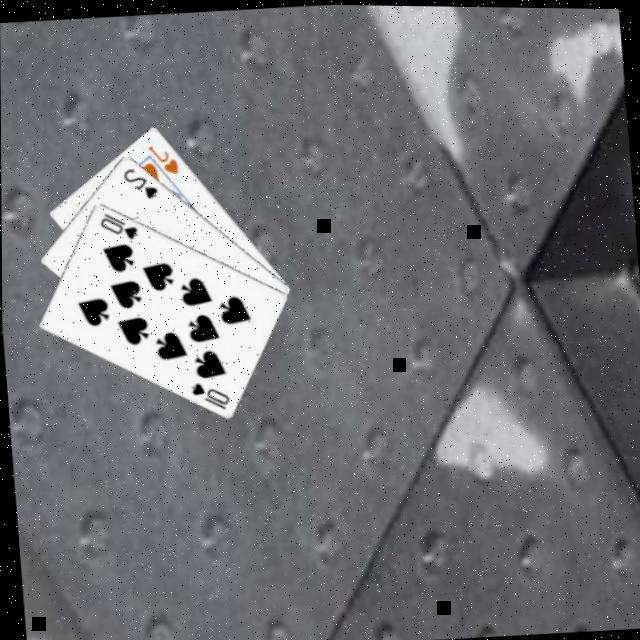10S: (188, 377, 234, 415), (97, 207, 142, 245)
2S: (121, 162, 162, 203)
JH: (146, 140, 182, 178)
